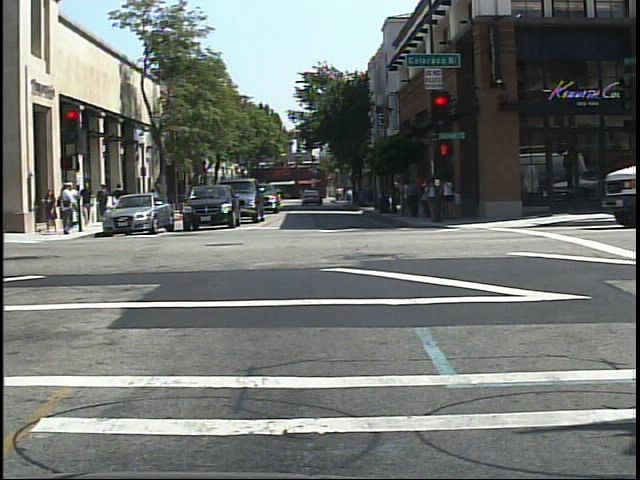person: (55, 181, 78, 240)
